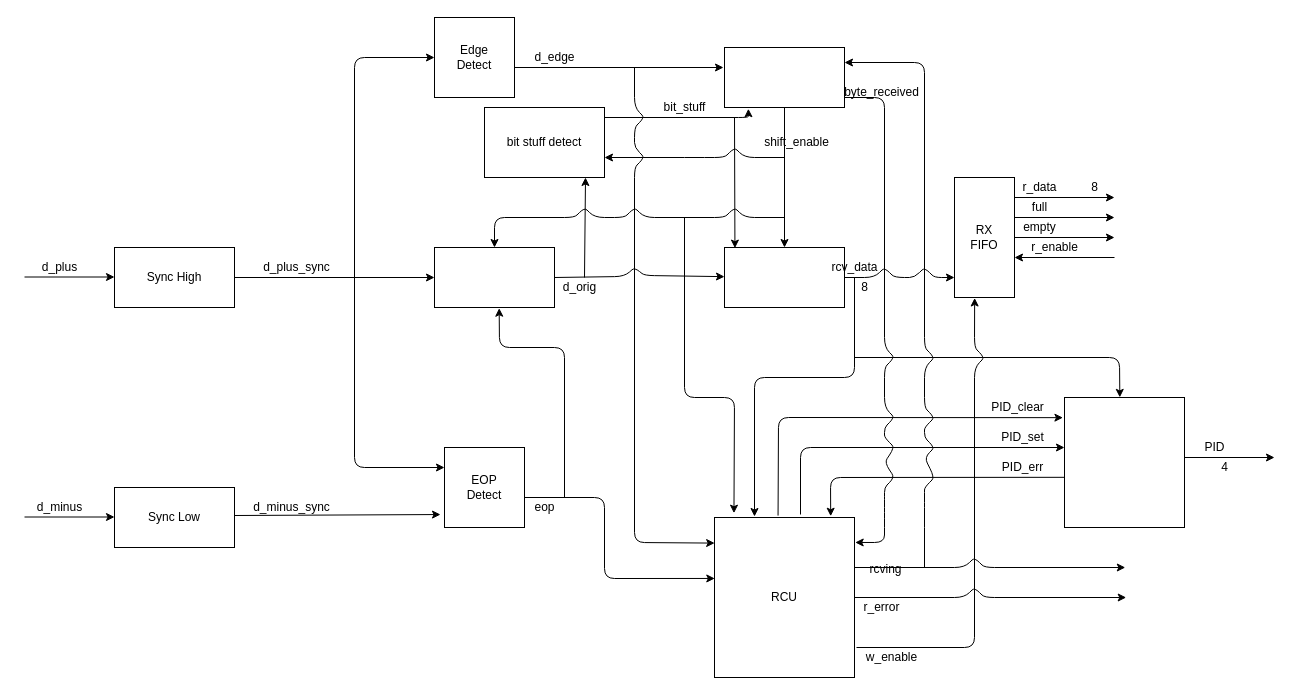
This 1300x695 diagram has some shape labels left out. The centre of each missing label's shape, as x and y in pixels:
Decode: the point at 494,277
PID detect: the point at 1124,462
Shift Register: the point at 784,277
Timer: the point at 784,77
